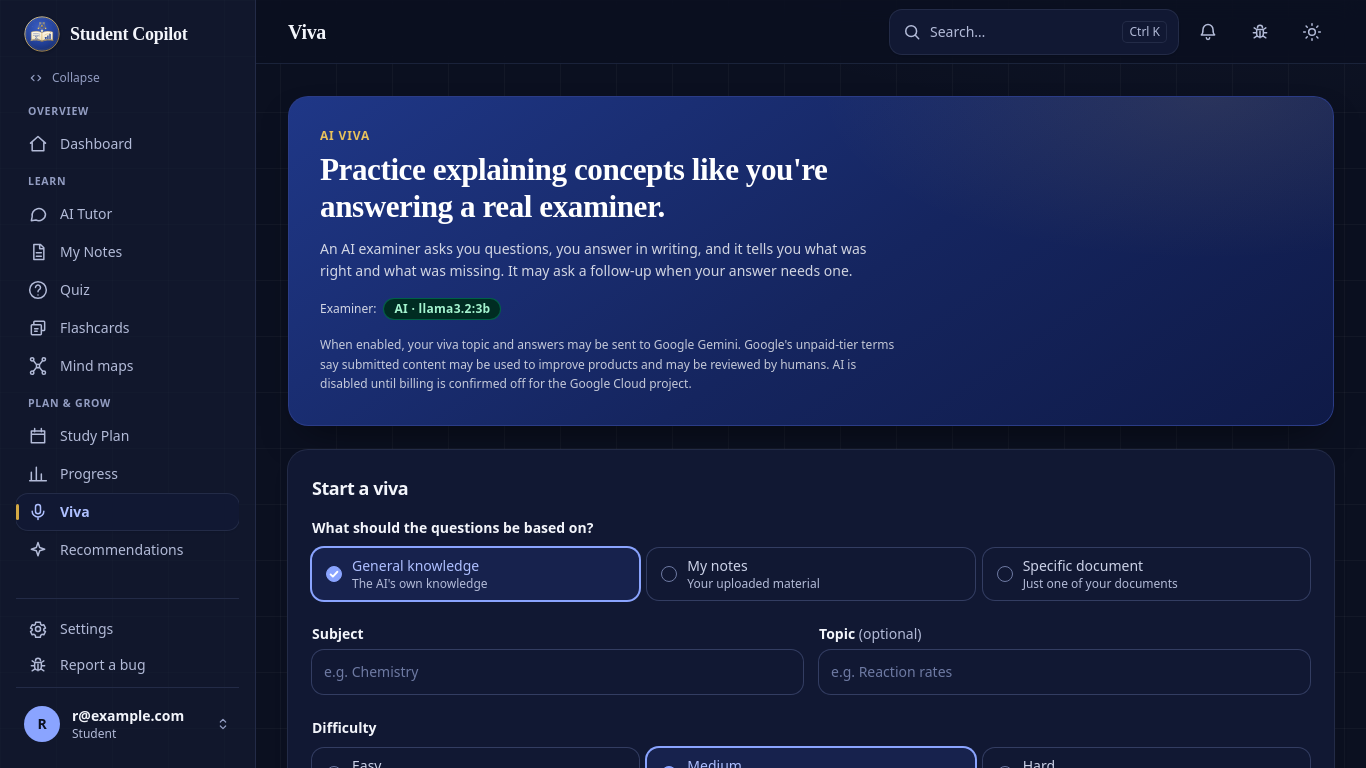
Test: viva sources › when nothing relevant is in the material, the student gets a plain explanation and can fix the form
Click the radio button labelled "My notes Your uploaded material": [811, 574] box [647,548,975,600]
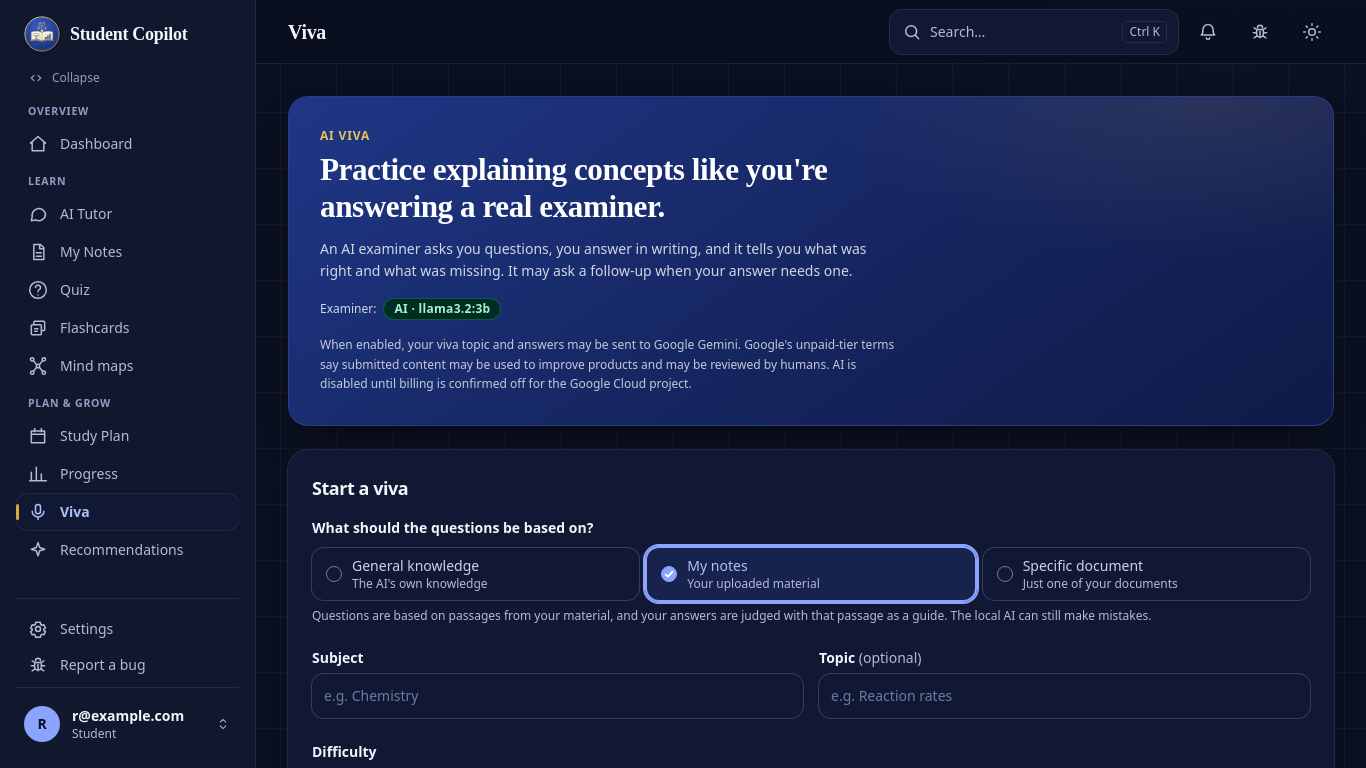
In the field labelled "Subject": [558, 696] box [312,674,803,718], type "Roman history"
(page scrolled)
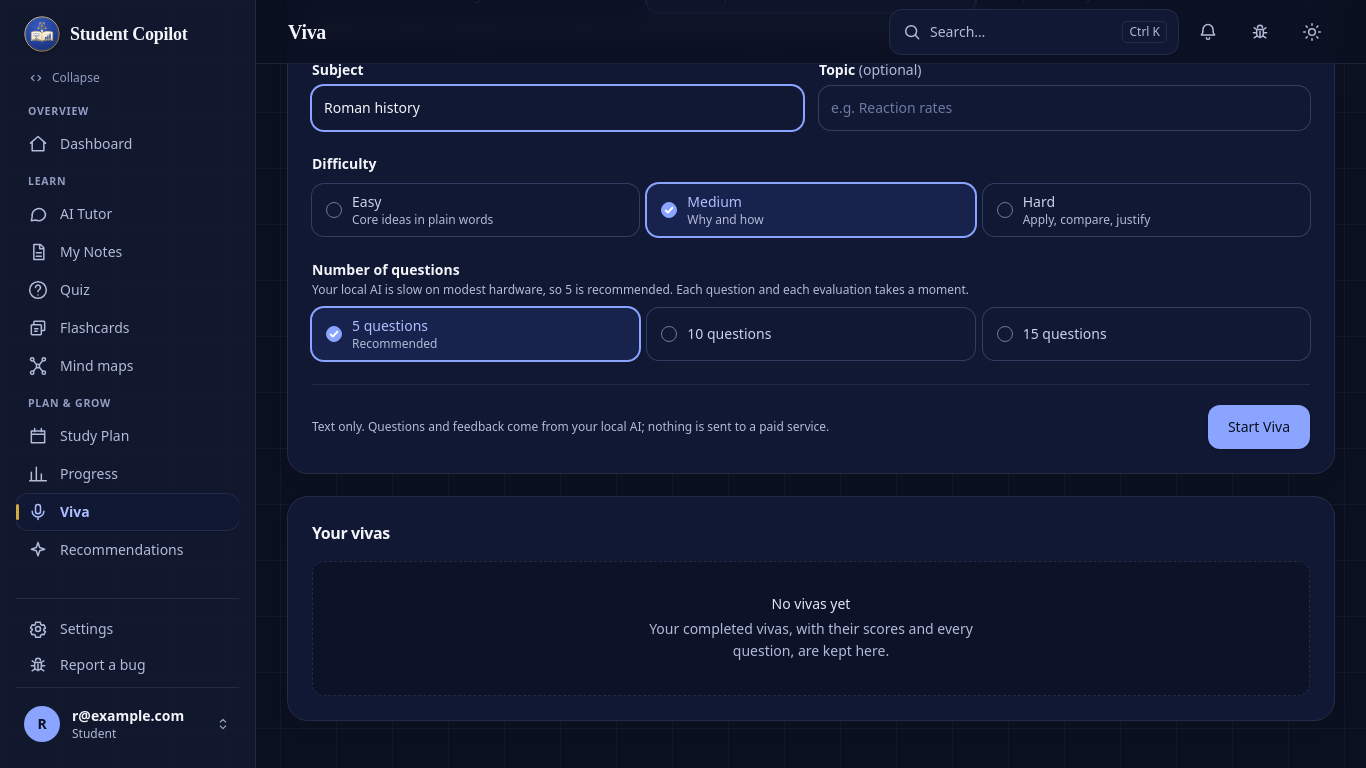
Click the button "Start Viva": [1259, 427] box [1208,405,1310,449]
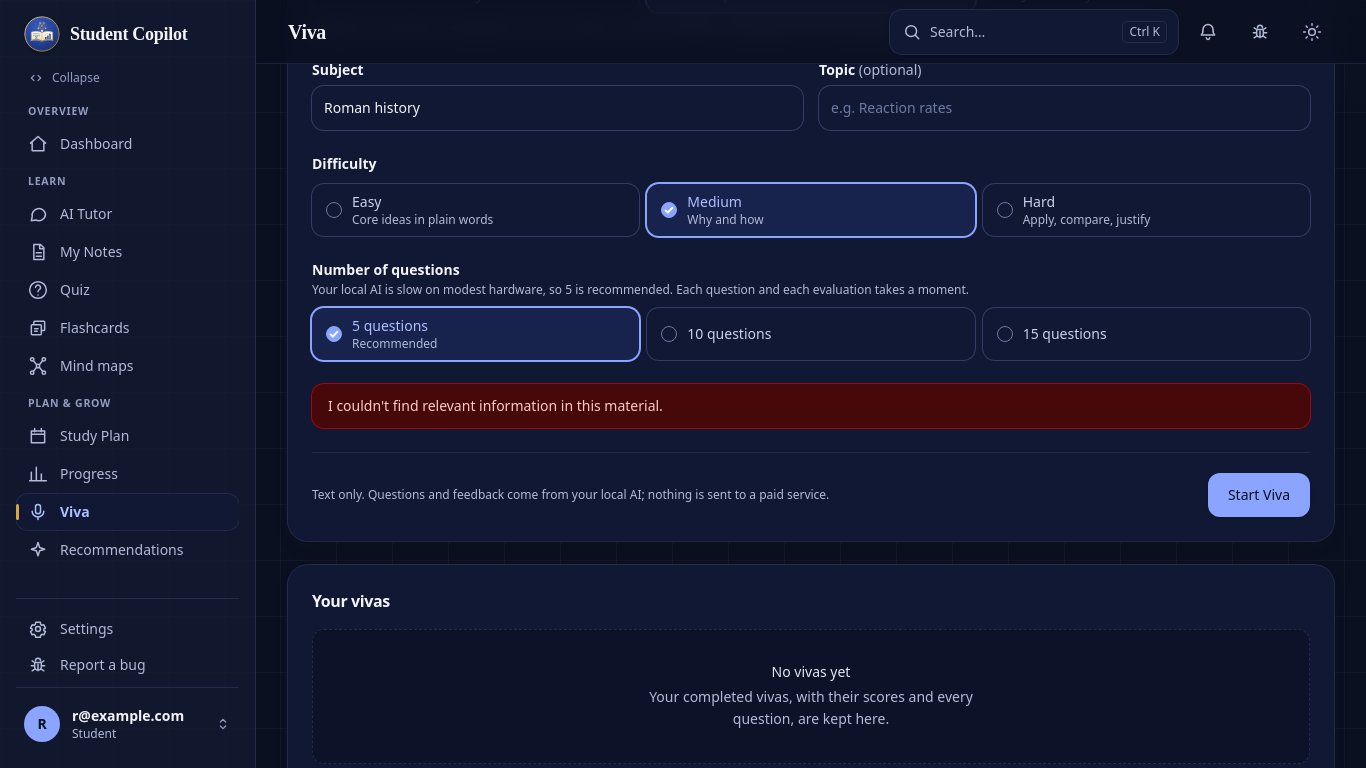
Now the text "I couldn't find relevant information in this material." is shown, box [312,384,1310,428]
